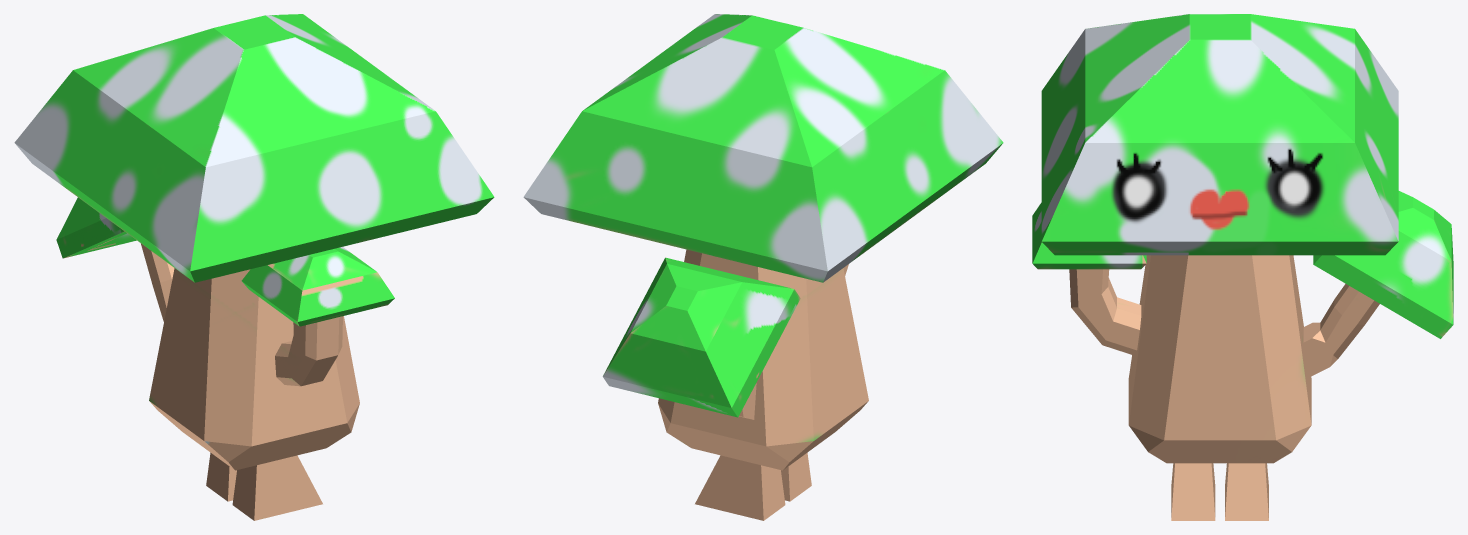
The model's file is marshmello.fbx.
3 views of the same model, side by side, from view 1: azimuth 30°, elevation 25°; view 2: azimuth 150°, elevation 25°; view 3: azimuth 270°, elevation 25° (orthographic).
Visible parts, largest first — view 1: Cube; view 2: Cube; view 3: Cube.
Part boxes in pixels (x1,y1,x2,y2): Cube: [14, 14, 494, 520]; Cube: [523, 14, 1003, 520]; Cube: [1032, 14, 1453, 520].
Bounding box in the file's own units: 180 × 262 × 212.
